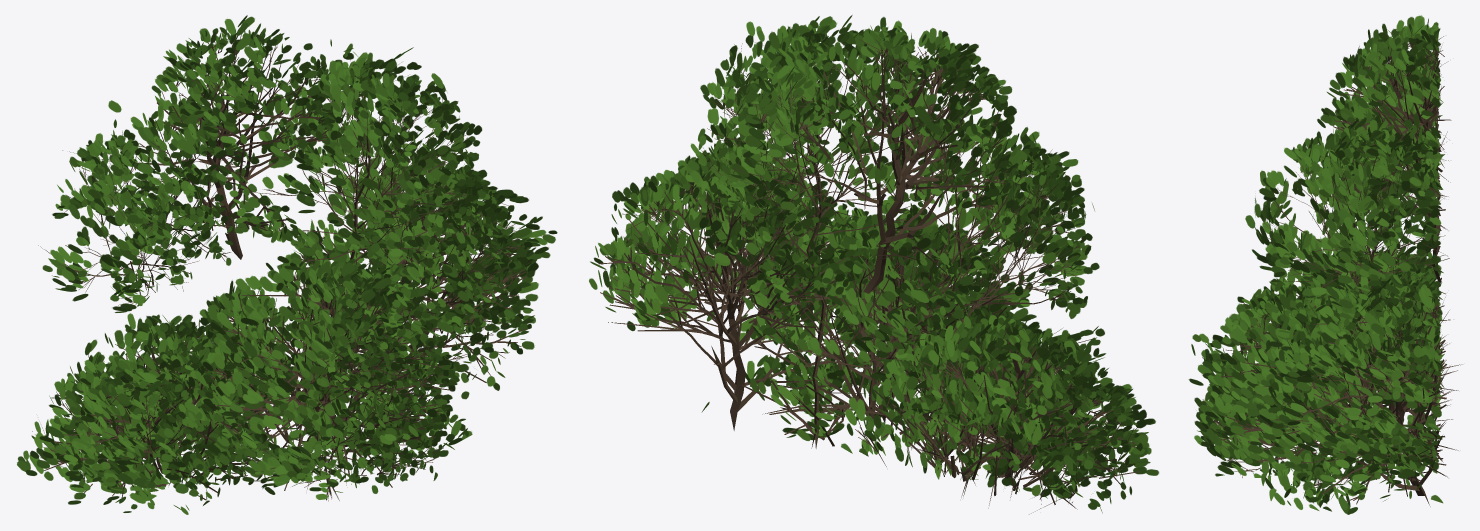
3 renders of one model, left to right at view 1: azimuth 30°, elevation 25°; view 2: azimuth 150°, elevation 25°; view 3: azimuth 270°, elevation 25°, orthographic. The views are drawn at different scales.
Visible parts, largest first — view 1: oak 01.001_trunk_Mat.001_0.298; view 2: oak 01.001_trunk_Mat.001_0.298; view 3: oak 01.001_trunk_Mat.001_0.298.
Part boxes in pixels (box(x1,y1,x2,y2)): oak 01.001_trunk_Mat.001_0.298: box(17, 15, 557, 514); oak 01.001_trunk_Mat.001_0.298: box(589, 15, 1159, 514); oak 01.001_trunk_Mat.001_0.298: box(1188, 15, 1462, 514).
Size of the model in its own units: 5.02 by 4.01 by 2.39.
Materials: 2 (1 with a texture image).
